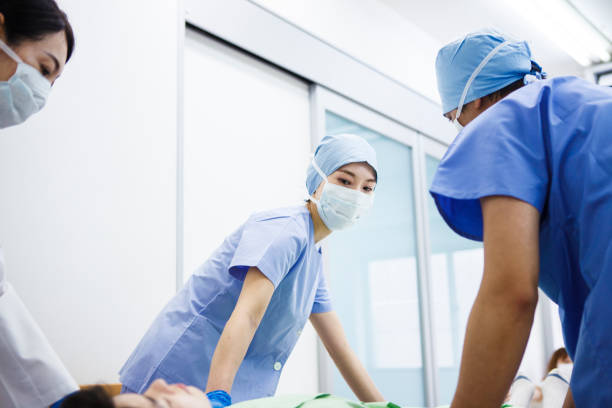patient: (47, 380, 405, 408)
staff: (116, 134, 391, 408), (428, 28, 612, 408), (1, 1, 78, 408)
